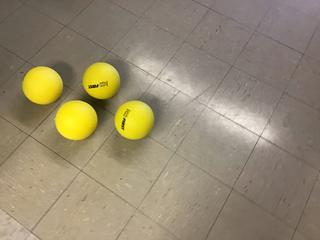power_cell: (20, 64, 62, 107), (55, 99, 98, 141), (114, 98, 156, 141), (82, 60, 121, 102)
